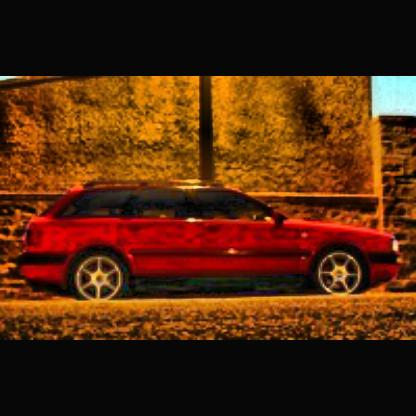Audi 100 Wagon 1994: (22, 184, 404, 302)
